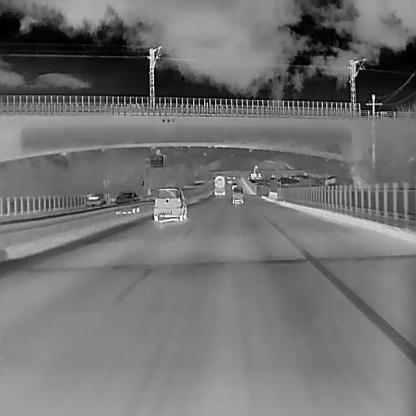car: (152, 186, 188, 223), (111, 190, 139, 213), (85, 191, 105, 208), (231, 186, 243, 203), (226, 175, 232, 183), (230, 181, 236, 187), (232, 173, 235, 179)
truck: (213, 173, 226, 196)
